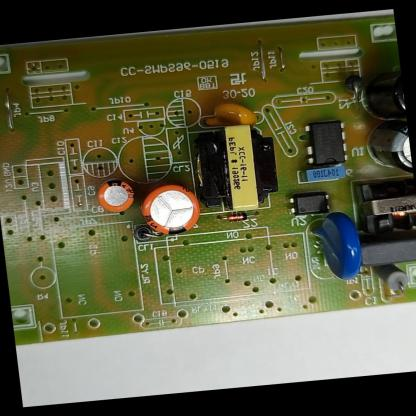Cap1: (138, 180, 203, 240)
Cap2: (92, 176, 138, 215)
Cap3: (364, 122, 413, 179)
Cap4: (358, 68, 406, 126)
MOSFET: (299, 120, 352, 167)
Mov: (307, 209, 365, 286)
Resistor: (370, 263, 413, 294)
Transformer: (188, 122, 283, 214), (354, 178, 416, 238)
